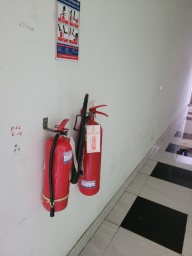fire_extinguisher: (88, 158, 163, 200), (78, 111, 147, 152)
